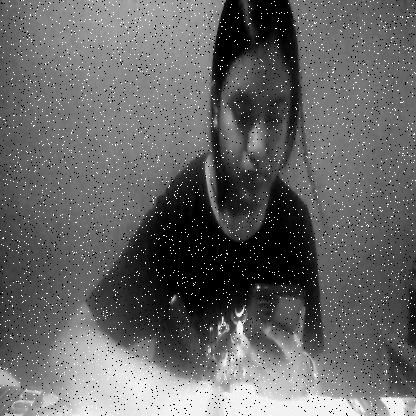Distracted: (215, 10, 298, 216)
